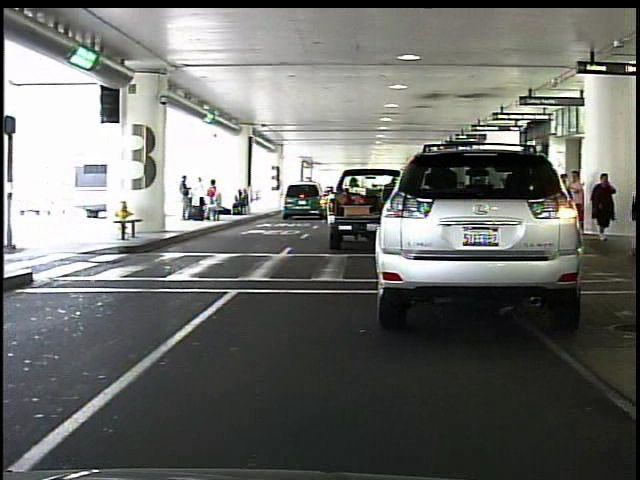person: (587, 166, 616, 241), (566, 169, 588, 238), (624, 163, 640, 256), (175, 172, 195, 224)
